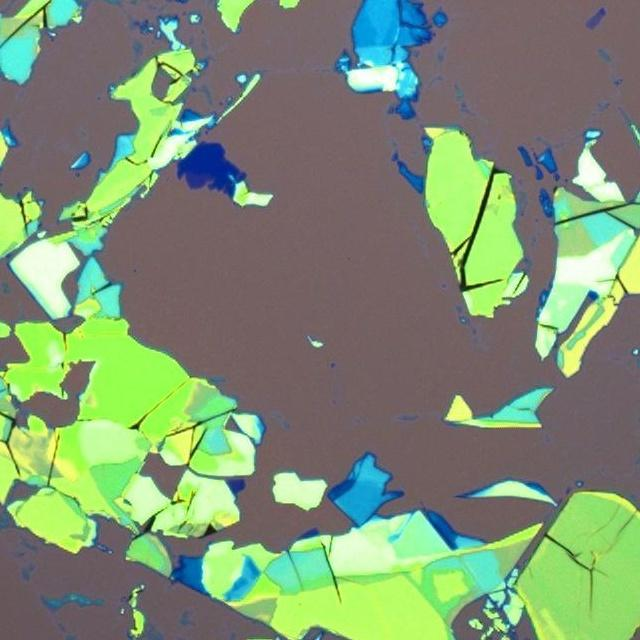monolayer-eWW4: (585, 10, 602, 30)
